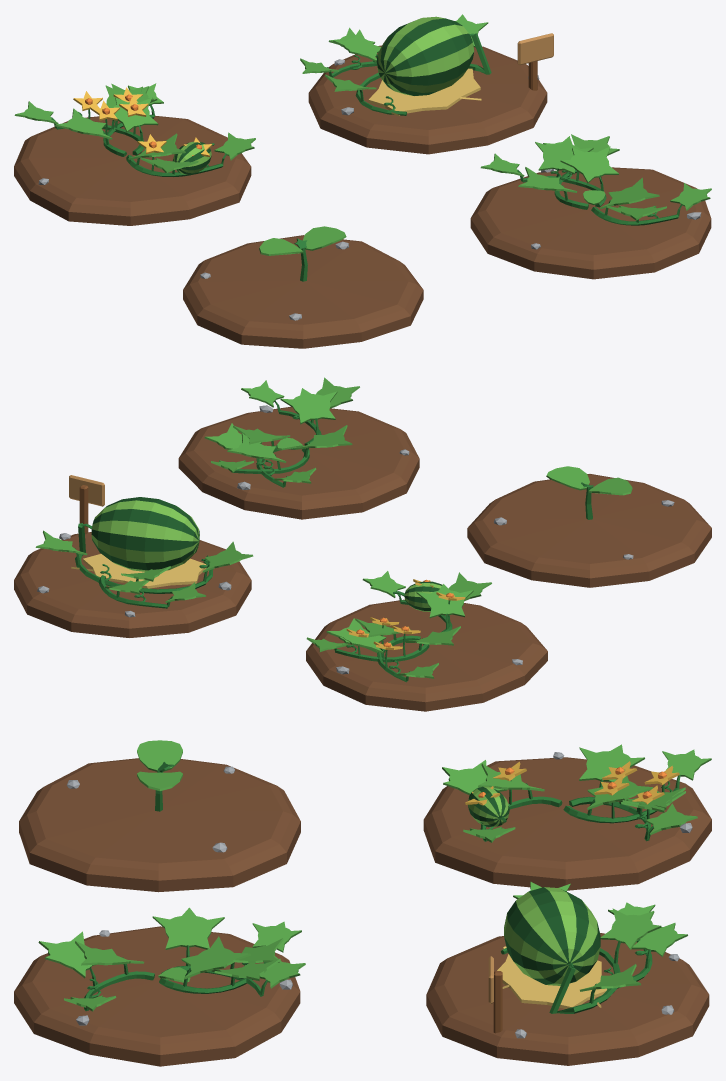
The model's file is watermelon-growth-stages.glb.
3 renders of one model, top to bottom at view 1: azimuth 30°, elevation 25°; view 2: azimuth 150°, elevation 25°; view 3: azimuth 270°, elevation 25°, orthographic. The views are drawn at different scales.
Visible parts, largest first — view 1: Watermelon_Stage4, Watermelon_Stage2, Watermelon_Stage3, Watermelon_Stage1; view 2: Watermelon_Stage4, Watermelon_Stage2, Watermelon_Stage3, Watermelon_Stage1; view 3: Watermelon_Stage4, Watermelon_Stage2, Watermelon_Stage3, Watermelon_Stage1.
Boxes of the visible parts, left/top/right/bottom form: Watermelon_Stage4: left=300, top=14, right=553, bottom=154; Watermelon_Stage2: left=470, top=134, right=711, bottom=279; Watermelon_Stage3: left=14, top=83, right=255, bottom=225; Watermelon_Stage1: left=183, top=226, right=423, bottom=348; Watermelon_Stage4: left=14, top=475, right=253, bottom=637; Watermelon_Stage2: left=178, top=377, right=419, bottom=519; Watermelon_Stage3: left=306, top=571, right=547, bottom=711; Watermelon_Stage1: left=467, top=466, right=711, bottom=587; Watermelon_Stage4: left=426, top=882, right=709, bottom=1065; Watermelon_Stage2: left=14, top=907, right=305, bottom=1066; Watermelon_Stage3: left=423, top=744, right=711, bottom=890; Watermelon_Stage1: left=19, top=740, right=300, bottom=892.
Size of the model in its own units: 15.45 by 2.53 by 15.4.
